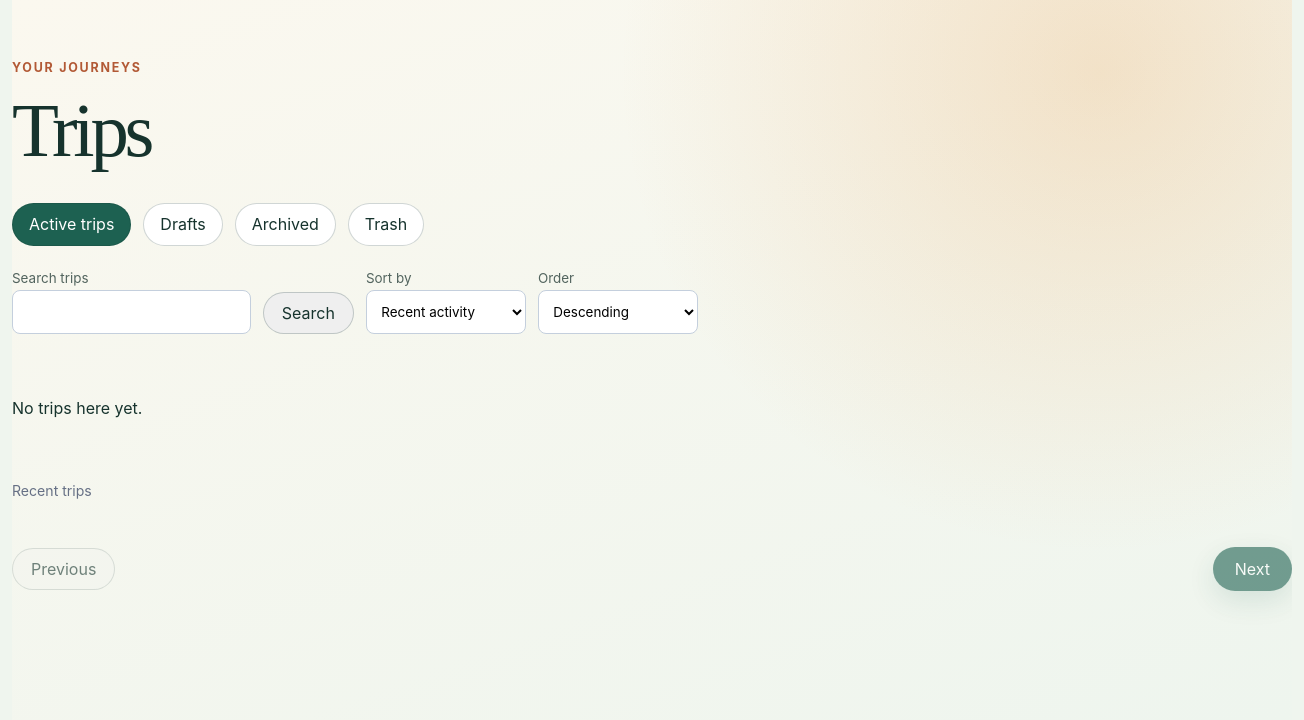
Test: E2E-008 Trip list and recycle bin › keeps deleted trips out of the default list and restores the same id
Check: the text "No trips here yet." is shown, box [12, 398, 142, 418]
Click the tab "Trash".
click(386, 224)  # box [348, 203, 424, 246]
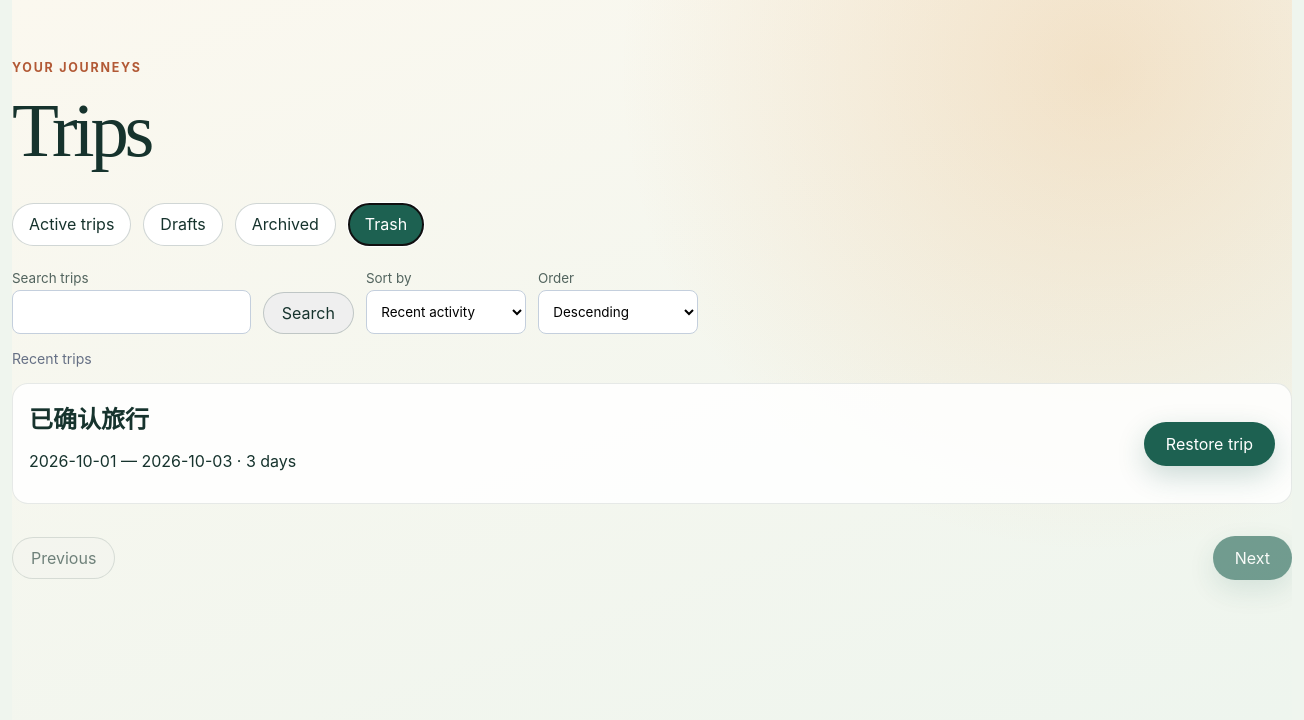
Check: the heading "已确认旅行" is shown, box [29, 405, 149, 434]
Click the button "Restore trip".
click(1209, 444)  # box [1144, 422, 1275, 466]
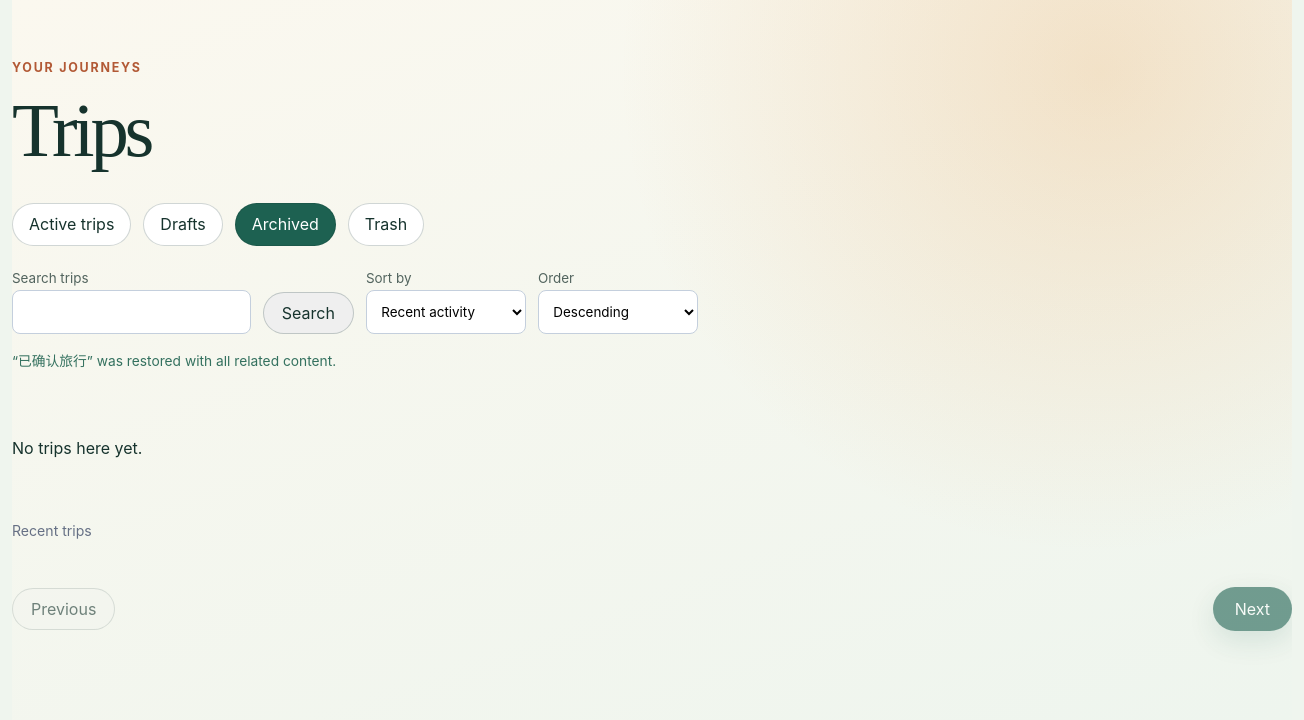
Check: the message shows "was restored", box [12, 353, 336, 369]
